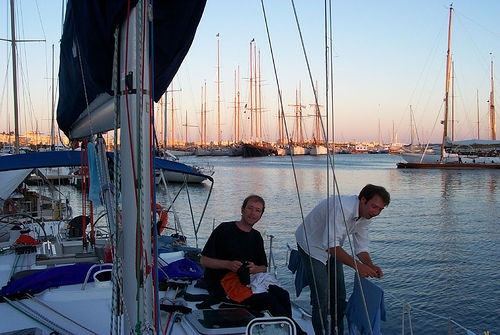head: (236, 195, 270, 231), (359, 185, 392, 221)
person: (296, 181, 392, 332), (199, 192, 291, 321)
